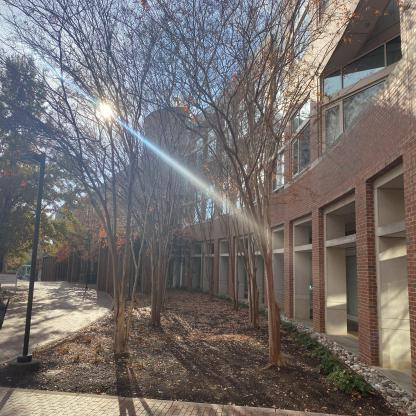EB-1: (53, 107, 415, 334)
